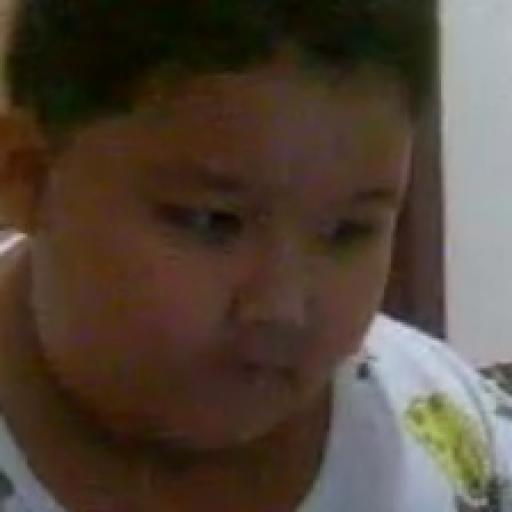Autism: (40, 23, 495, 501)
